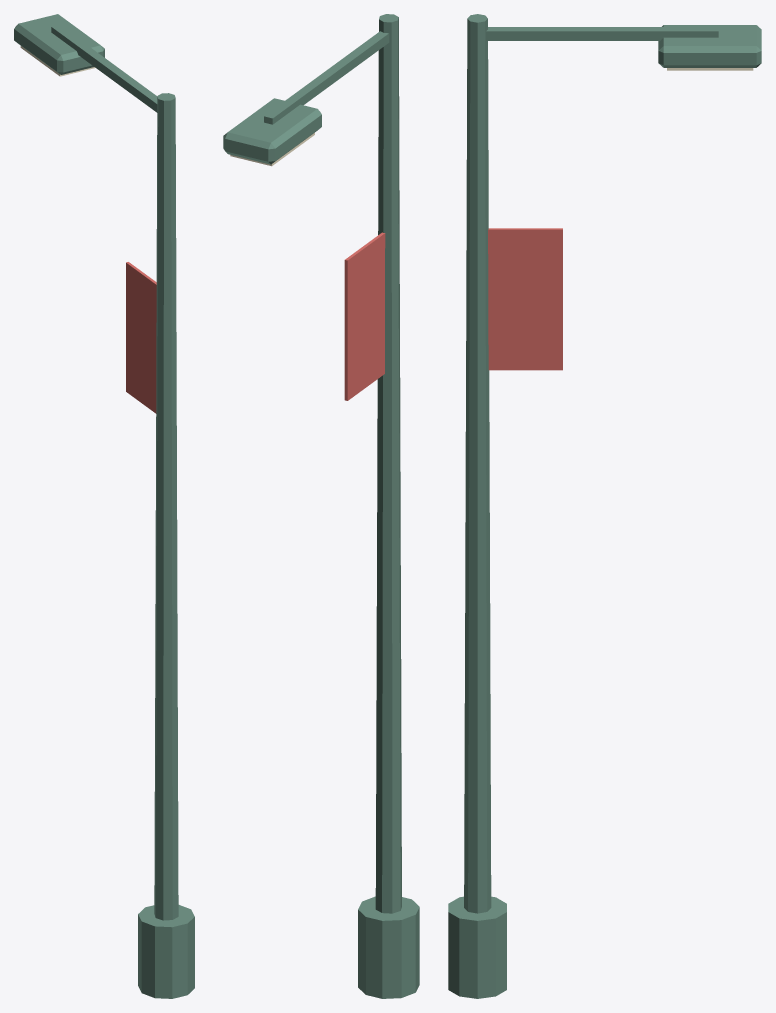
The model's file is streetlight.glb.
3 renders of one model, left to right at view 1: azimuth 30°, elevation 25°; view 2: azimuth 150°, elevation 25°; view 3: azimuth 270°, elevation 25°, orthographic. The views are drawn at different scales.
Visible parts, largest first — view 1: body; view 2: body; view 3: body.
Part boxes in pixels (left/top/right/bottom): body: left=14, top=14, right=194, bottom=998; body: left=223, top=14, right=419, bottom=998; body: left=448, top=14, right=761, bottom=998.
Size of the model in its own units: 0.36 by 6.2 by 1.82.
